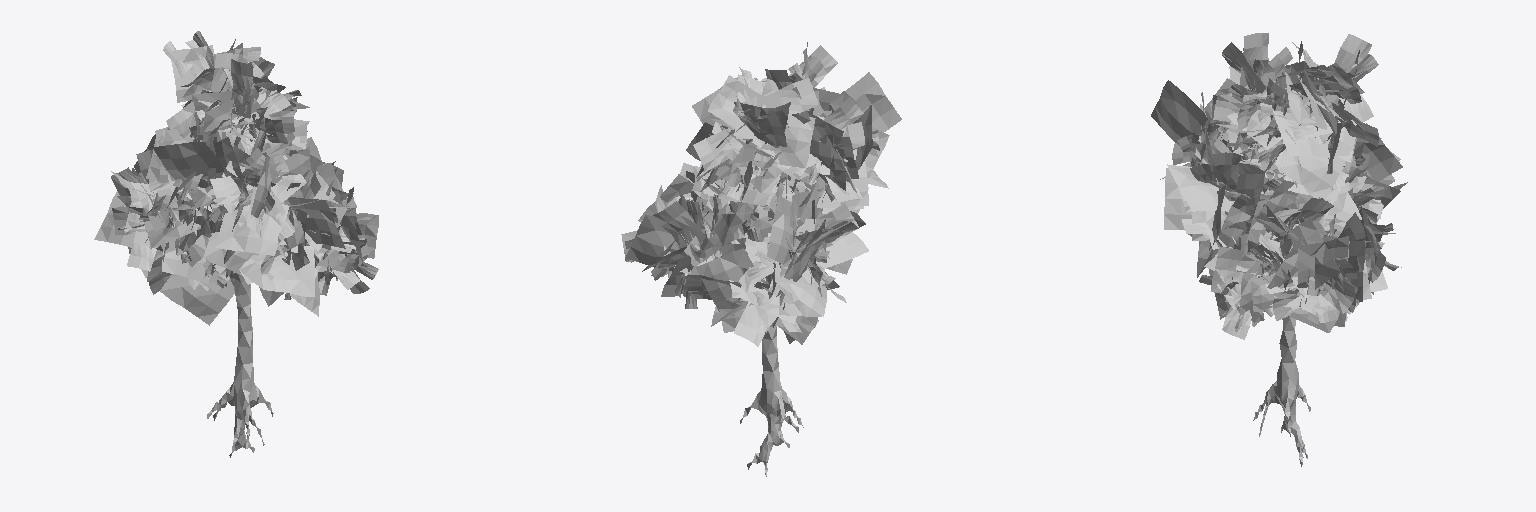
File: treeTe.obj
3 views of the same model, side by side, from view 1: azimuth 30°, elevation 25°; view 2: azimuth 150°, elevation 25°; view 3: azimuth 270°, elevation 25° (orthographic).
Parts seen in each view (by area): view 1: branch1-2_Material.004, branch1-1_Material.005, branch1-3_Material.006, tree1.001_Material.003; view 2: branch1-2_Material.004, branch1-1_Material.005, branch1-3_Material.006, tree1.001_Material.003; view 3: branch1-2_Material.004, branch1-1_Material.005, branch1-3_Material.006, tree1.001_Material.003.
Part boxes in pixels (x1,y1,x2,y2): branch1-2_Material.004: (94,39,378,325); branch1-1_Material.005: (112,41,369,294); branch1-3_Material.006: (118,31,378,299); tree1.001_Material.003: (207,115,273,457); branch1-2_Material.004: (625,72,901,343); branch1-1_Material.005: (621,42,879,346); branch1-3_Material.006: (631,56,879,325); tree1.001_Material.003: (740,143,818,476); branch1-2_Material.004: (1151,49,1407,332); branch1-1_Material.005: (1172,33,1401,339); branch1-3_Material.006: (1190,47,1393,334); tree1.001_Material.003: (1253,316,1310,466).
Size of the model in its own units: 18.65 by 34.17 by 19.1.